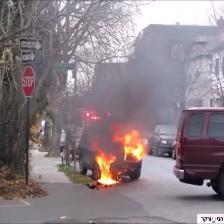fire: (94, 155, 117, 187), (123, 133, 146, 163)
smoke: (91, 64, 173, 130), (90, 133, 110, 151)
